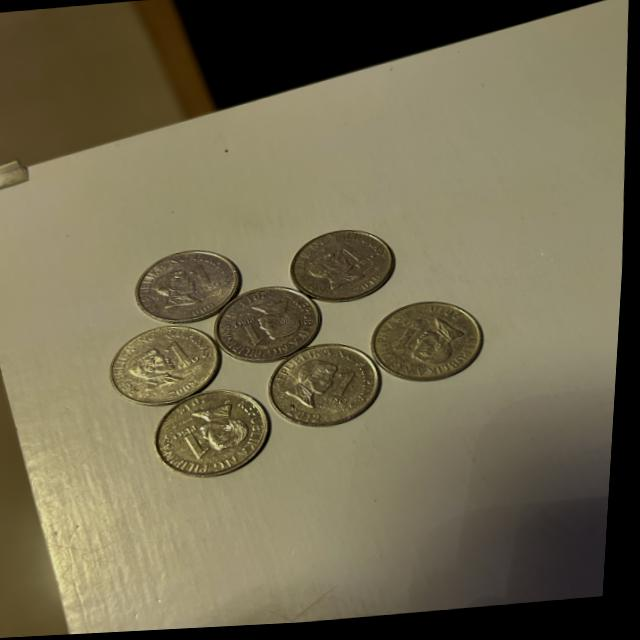1_Old_Front: (169, 424, 228, 471), (319, 370, 370, 416), (388, 319, 431, 366), (226, 314, 273, 356), (160, 337, 210, 375), (183, 262, 230, 301), (339, 242, 384, 277)
